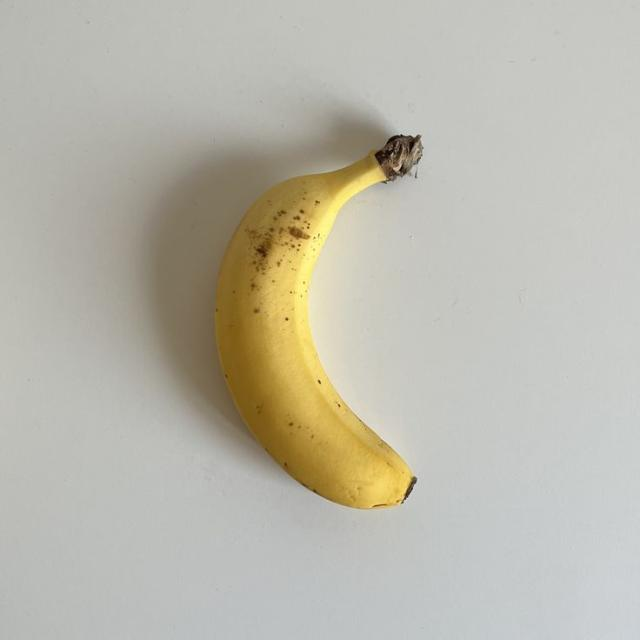unpeal banana: (216, 136, 422, 508)
